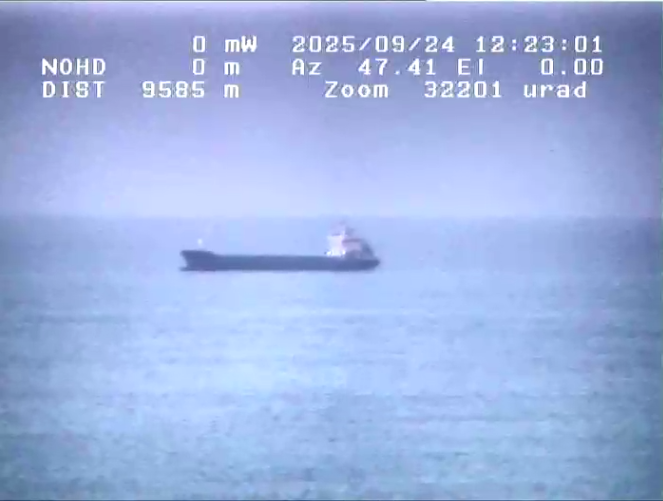TANKER: (159, 212, 407, 287)
